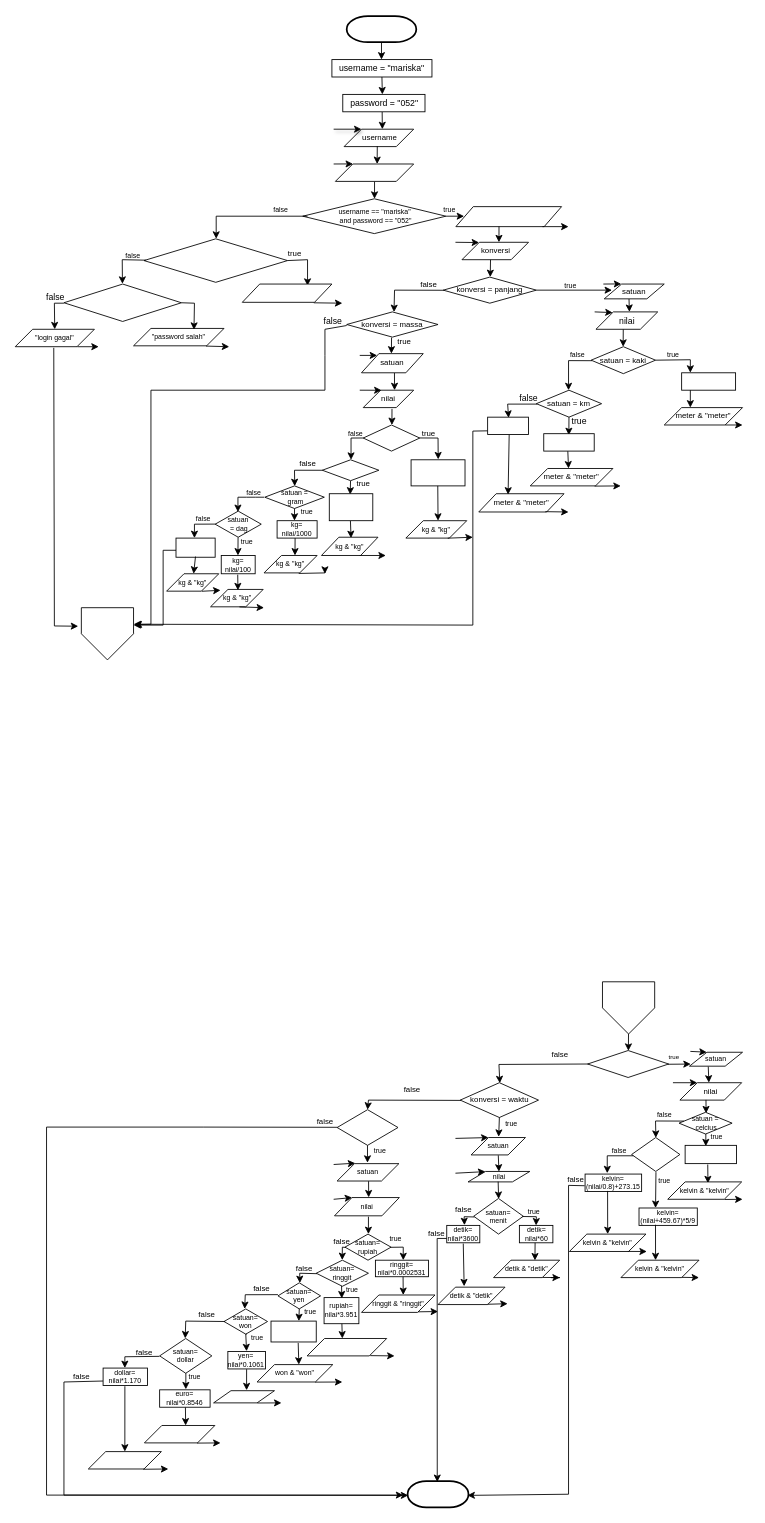
Image size: 765x1523. Some labels were removed from this diagram. Each missing label, with the centre of its shape:
"kalkulator multifungsi": pixel 508 216
"username salah": pixel 286 292
dollar & "dollar": pixel 124 1460
euro & "euro": pixel 179 1434
kelvin = nilai+273.15: pixel 710 1154
kg= nilai*0.45359: pixel 437 472
kg= nilai*1000: pixel 350 507
kg= nilai/10000: pixel 195 547
konversi = suhu: pixel 628 1063
konversi= mata uang: pixel 367 1127
meter= nilai*0.3048: pixel 708 381
meter= nilai*1000: pixel 568 442
meter= nilai/100: pixel 508 425
mulai: pixel 381 29
password: pixel 374 172
rupiah & "rupiah": pixel 346 1347
satuan = poun: pixel 391 437
satuan = ton: pixel 350 470
satuan= fahrenheit: pixel 655 1154
selesai: pixel 437 1494
username != "mariska" and password == "052": pixel 215 260
username == "mariska" and password != "052": pixel 122 302
won= nilai*9.429: pixel 293 1331
yen & "yen": pixel 243 1396
